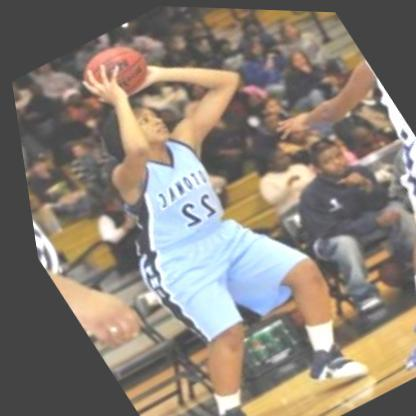basketball: (66, 25, 161, 107)
